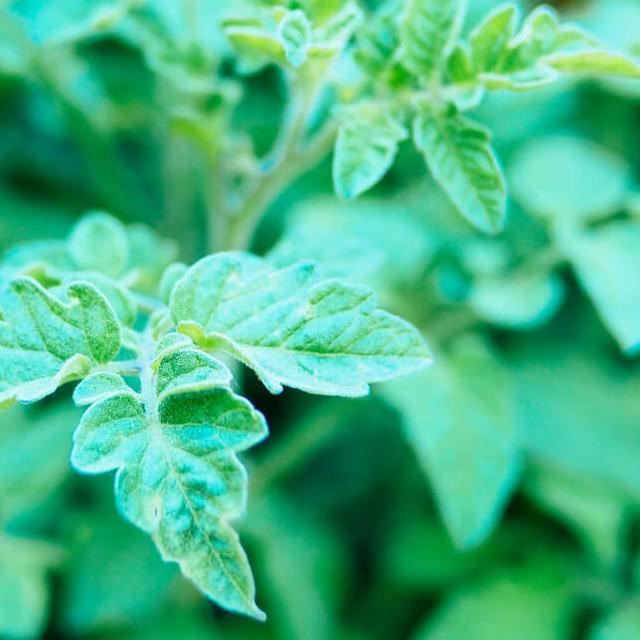Tomato leaf: (95, 322, 293, 640), (153, 249, 427, 416), (0, 239, 155, 473)
